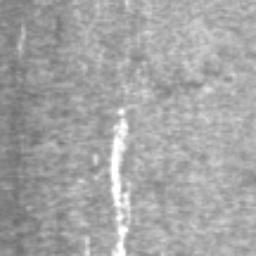White rust: (110, 107, 132, 256), (84, 234, 91, 256), (92, 151, 98, 167)
